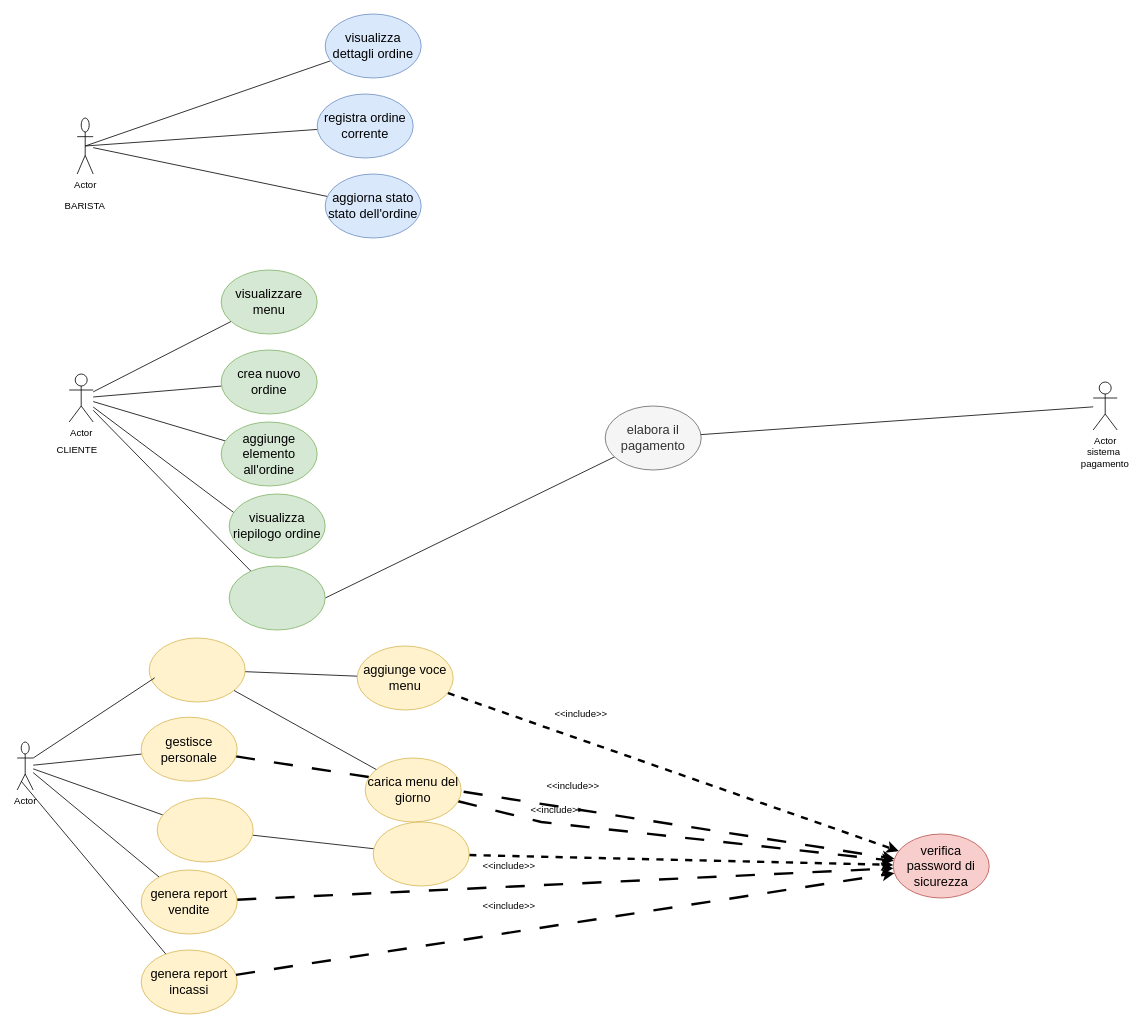
The diagram is 1142 pixels wide and 1028 high, and some of its shapes have lost their labels. The shapes that lost their labels are listed below. From the top down, each one's box as (x1, y1, x2, y2) in pixels, then its label:
(228, 565, 325, 630): effettua pagamento
(148, 637, 245, 702): gestisce menu
(156, 797, 253, 862): gestisce inventario
(372, 821, 469, 886): gestisce inventario a stock
